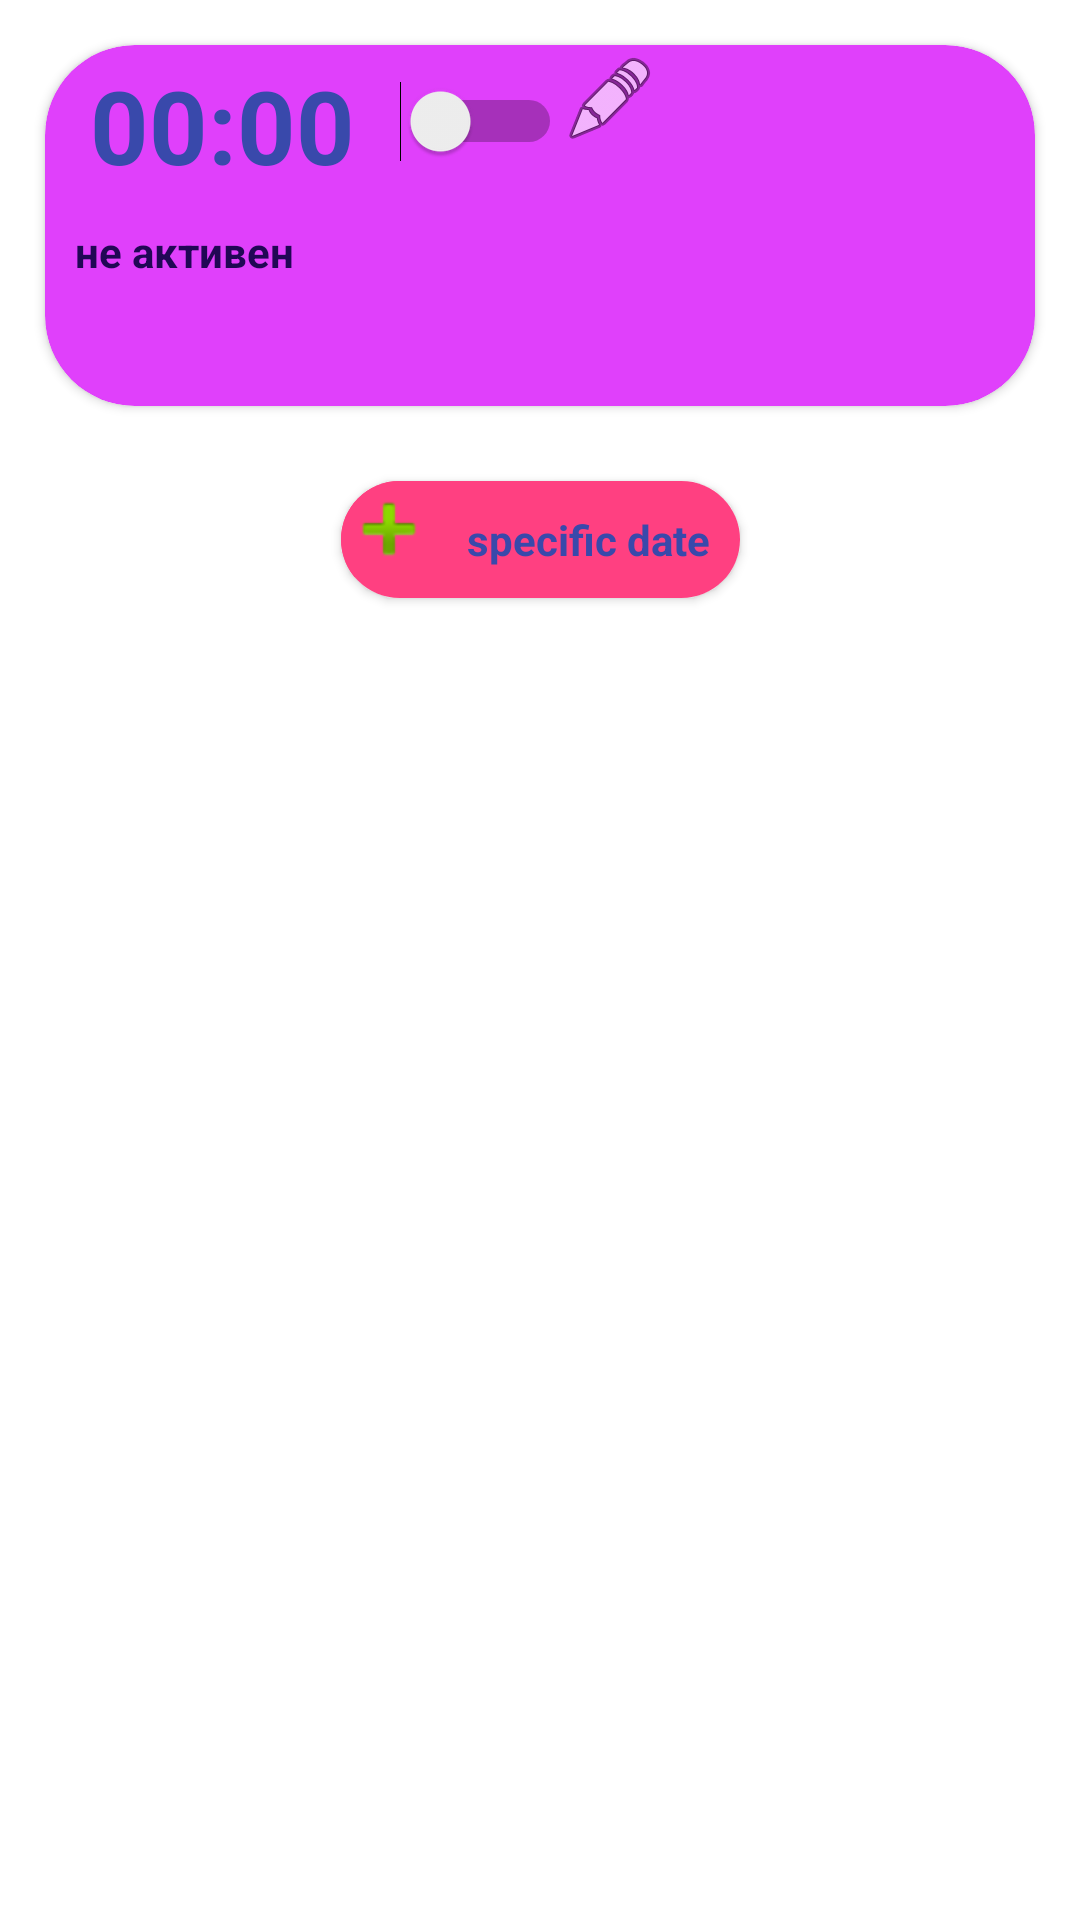

Icons on this 1080x1920 Android screen, each with the point to tap as (x=x, y=y):
add: (x=389, y=529)
edit: (x=609, y=98)
